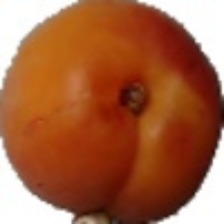apricot: (19, 47, 201, 210)
